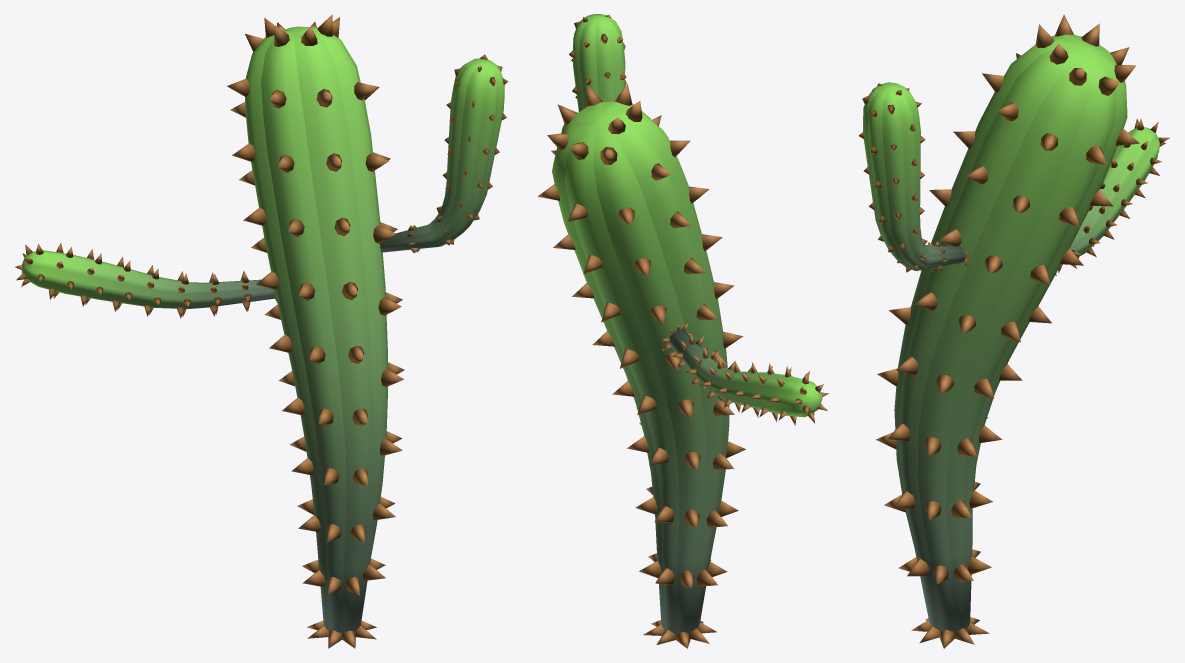
File: Cactu1.glb
3 renders of one model, left to right at view 1: azimuth 30°, elevation 25°; view 2: azimuth 150°, elevation 25°; view 3: azimuth 270°, elevation 25°, orthographic. The views are drawn at different scales.
Parts seen in each view (by area): view 1: Cylinder.005; view 2: Cylinder.005; view 3: Cylinder.005.
Boxes of the visible parts, left/top/right/bottom form: Cylinder.005: left=15, top=14, right=508, bottom=648; Cylinder.005: left=537, top=14, right=828, bottom=648; Cylinder.005: left=858, top=14, right=1169, bottom=648.
Size of the model in its own units: 2.79 by 4.13 by 1.9.
1 material, 1 textured.
